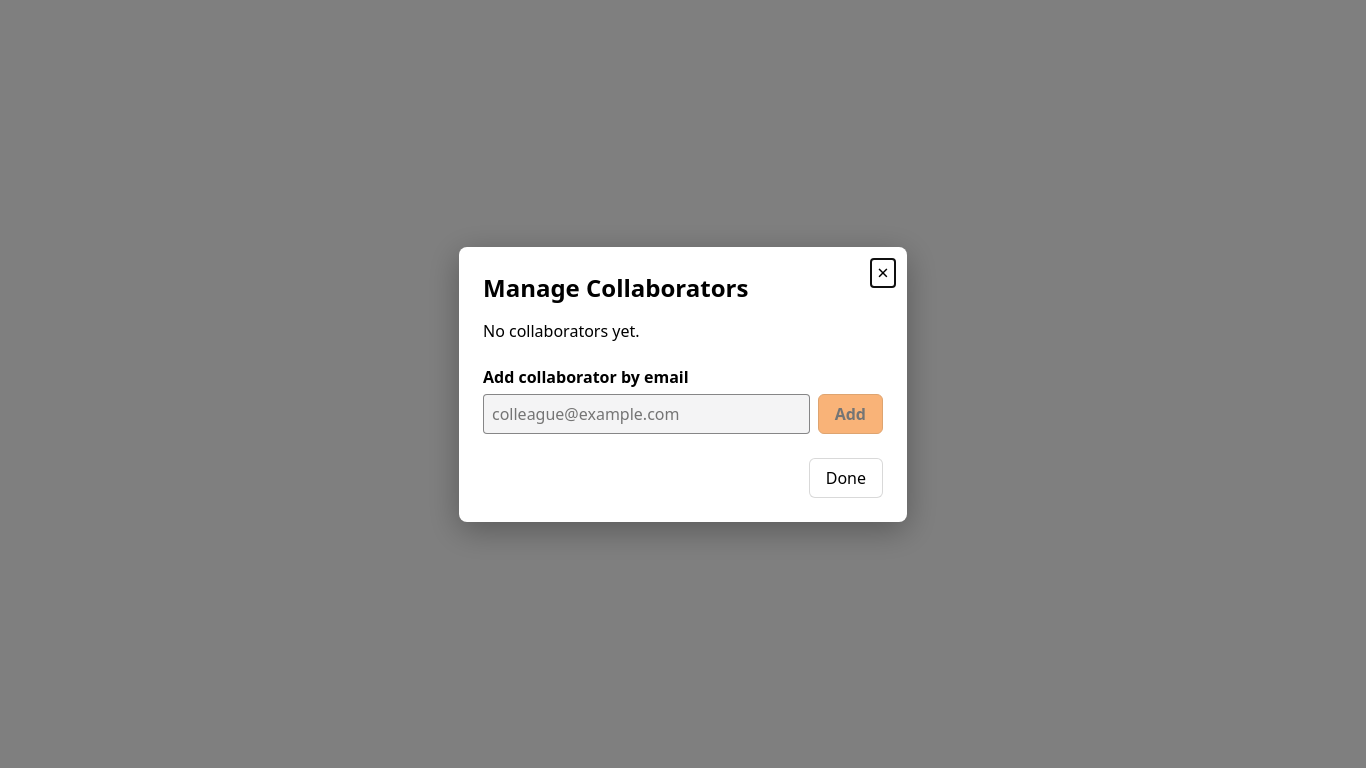
Test: CollaboratorsModal › falls back to a generic message when adding a collaborator fails with a non-Error rejection
In the field labelled "Add collaborator by email": (646,414) [483, 394, 810, 434], type "stranger@example.com"
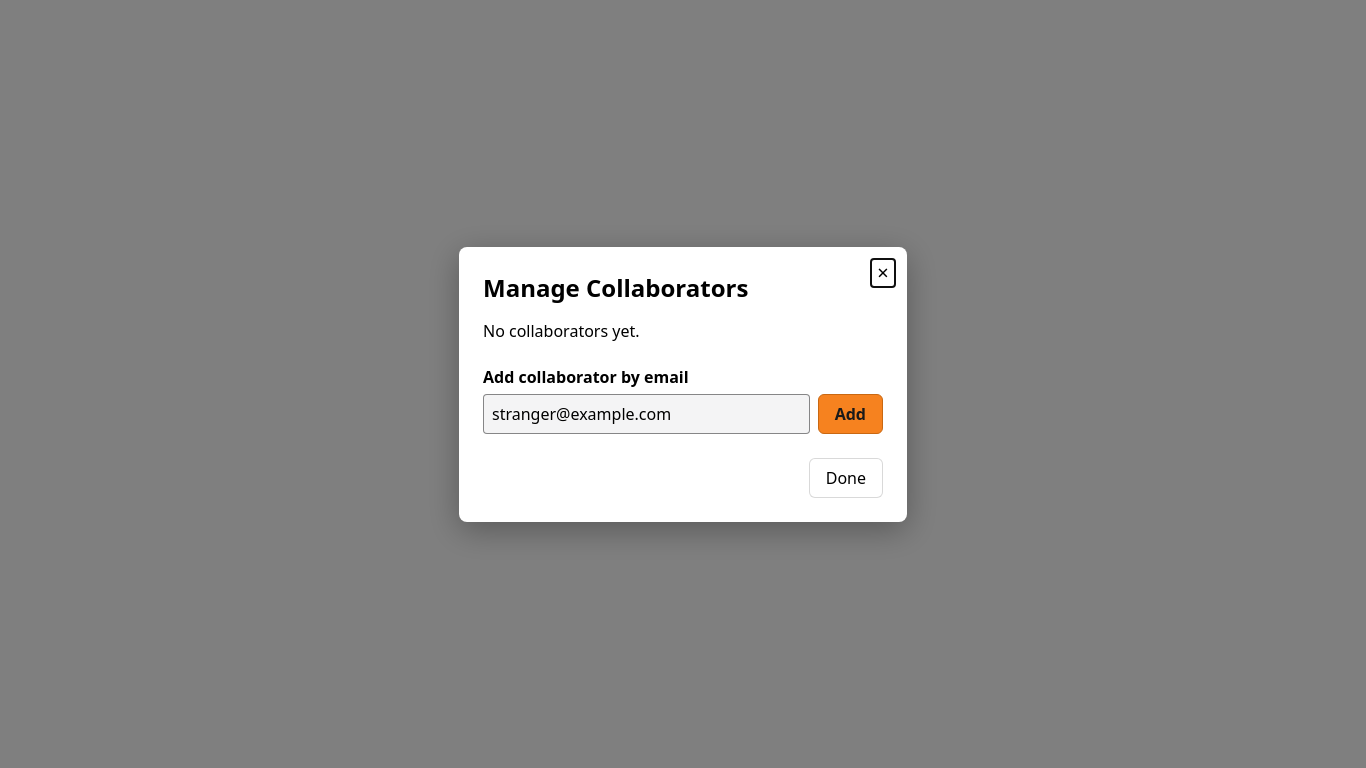
Click the button "Add": (850,414) [818, 394, 883, 434]
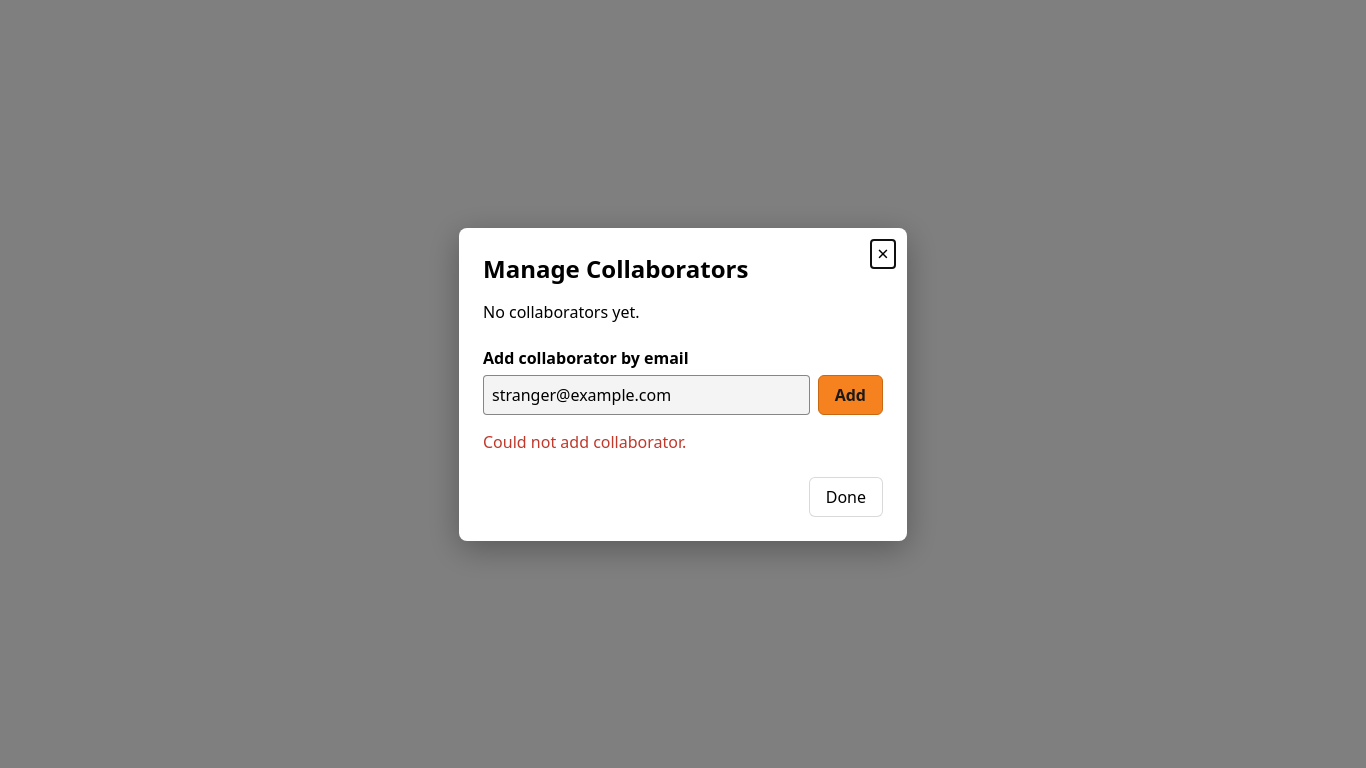
Now the message reads "Could not add collaborator.", box [483, 430, 686, 452]
